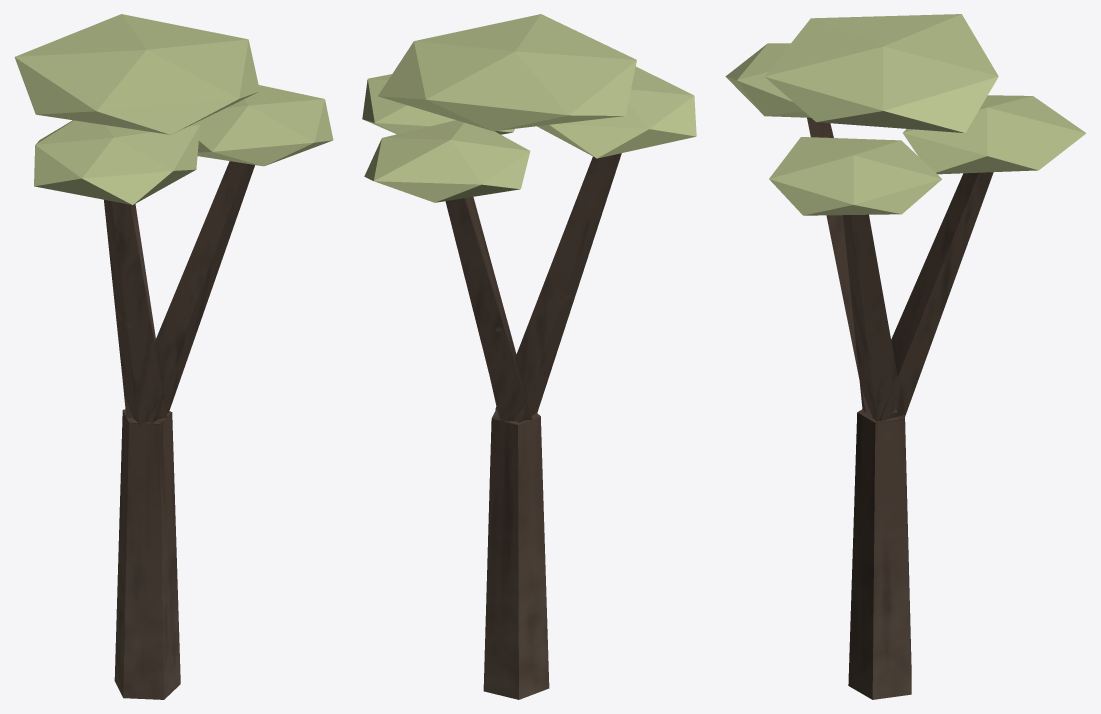
The model's file is arv_acacia_2.glb.
The picture shows the model from 3 angles, left to right: view 1: azimuth 30°, elevation 25°; view 2: azimuth 150°, elevation 25°; view 3: azimuth 270°, elevation 25°; orthographic projection.
Parts seen in each view (by area): view 1: arv_acacia_2; view 2: arv_acacia_2; view 3: arv_acacia_2.
Boxes of the visible parts, x1,y1,x2,y2 form: arv_acacia_2: (14, 14, 333, 699); arv_acacia_2: (362, 14, 696, 699); arv_acacia_2: (725, 14, 1086, 699).
Bounding box in the file's own units: 0.8222 × 1.61 × 0.8246.
2 materials, 1 textured.
